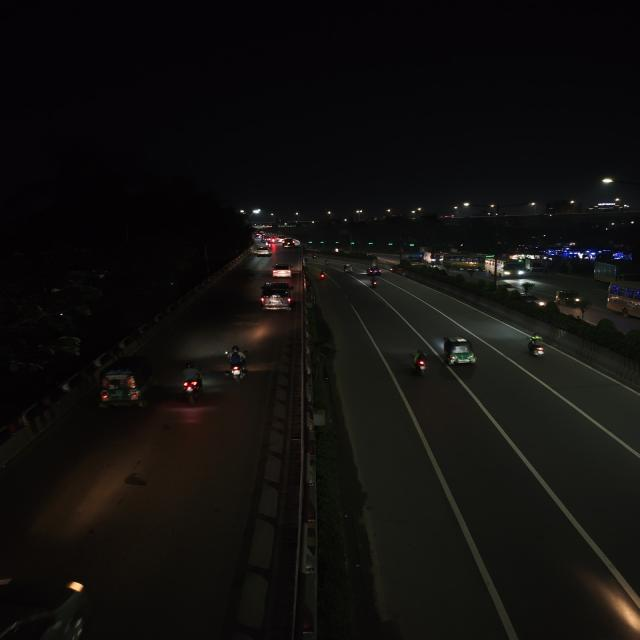bus: (606, 281, 640, 318), (483, 256, 524, 282), (442, 252, 484, 271)
car: (258, 281, 298, 315), (514, 292, 548, 310), (266, 262, 294, 281), (252, 245, 275, 258), (281, 237, 299, 249), (365, 266, 381, 276)
cng: (90, 354, 160, 418), (441, 334, 477, 368), (551, 289, 585, 308), (342, 263, 354, 274)
motorcycle: (174, 360, 207, 406), (223, 345, 254, 384), (410, 344, 431, 382), (524, 331, 548, 364), (369, 275, 381, 292), (317, 271, 328, 281)
truck: (589, 258, 640, 282), (399, 250, 429, 270), (525, 258, 546, 274)
